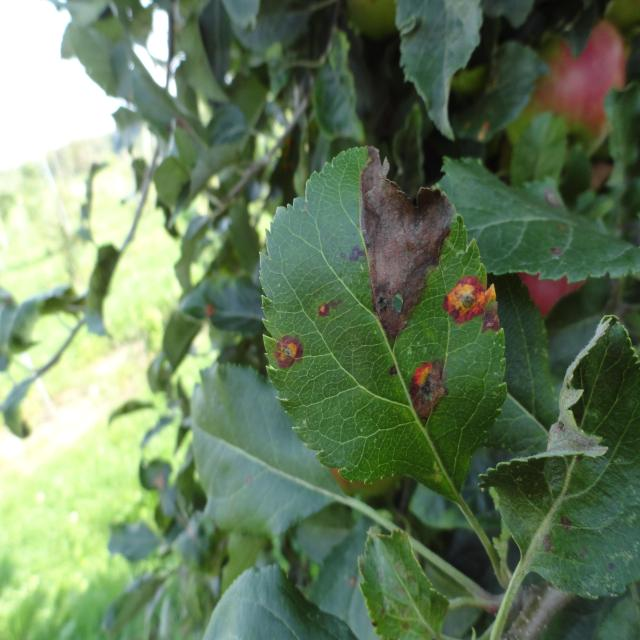rust: (257, 145, 508, 502)
